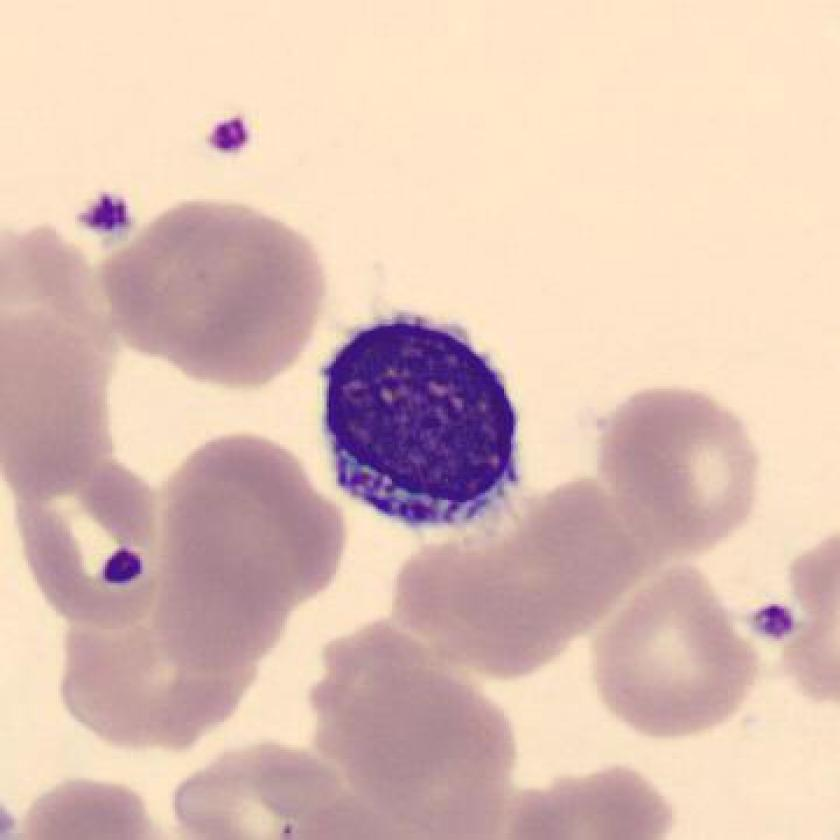lymphocyte: (309, 304, 538, 545)
